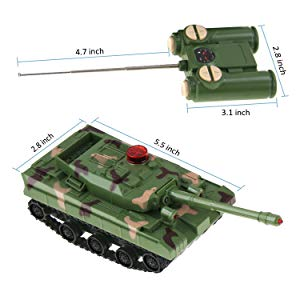Battle Tank: (20, 128, 246, 274)
